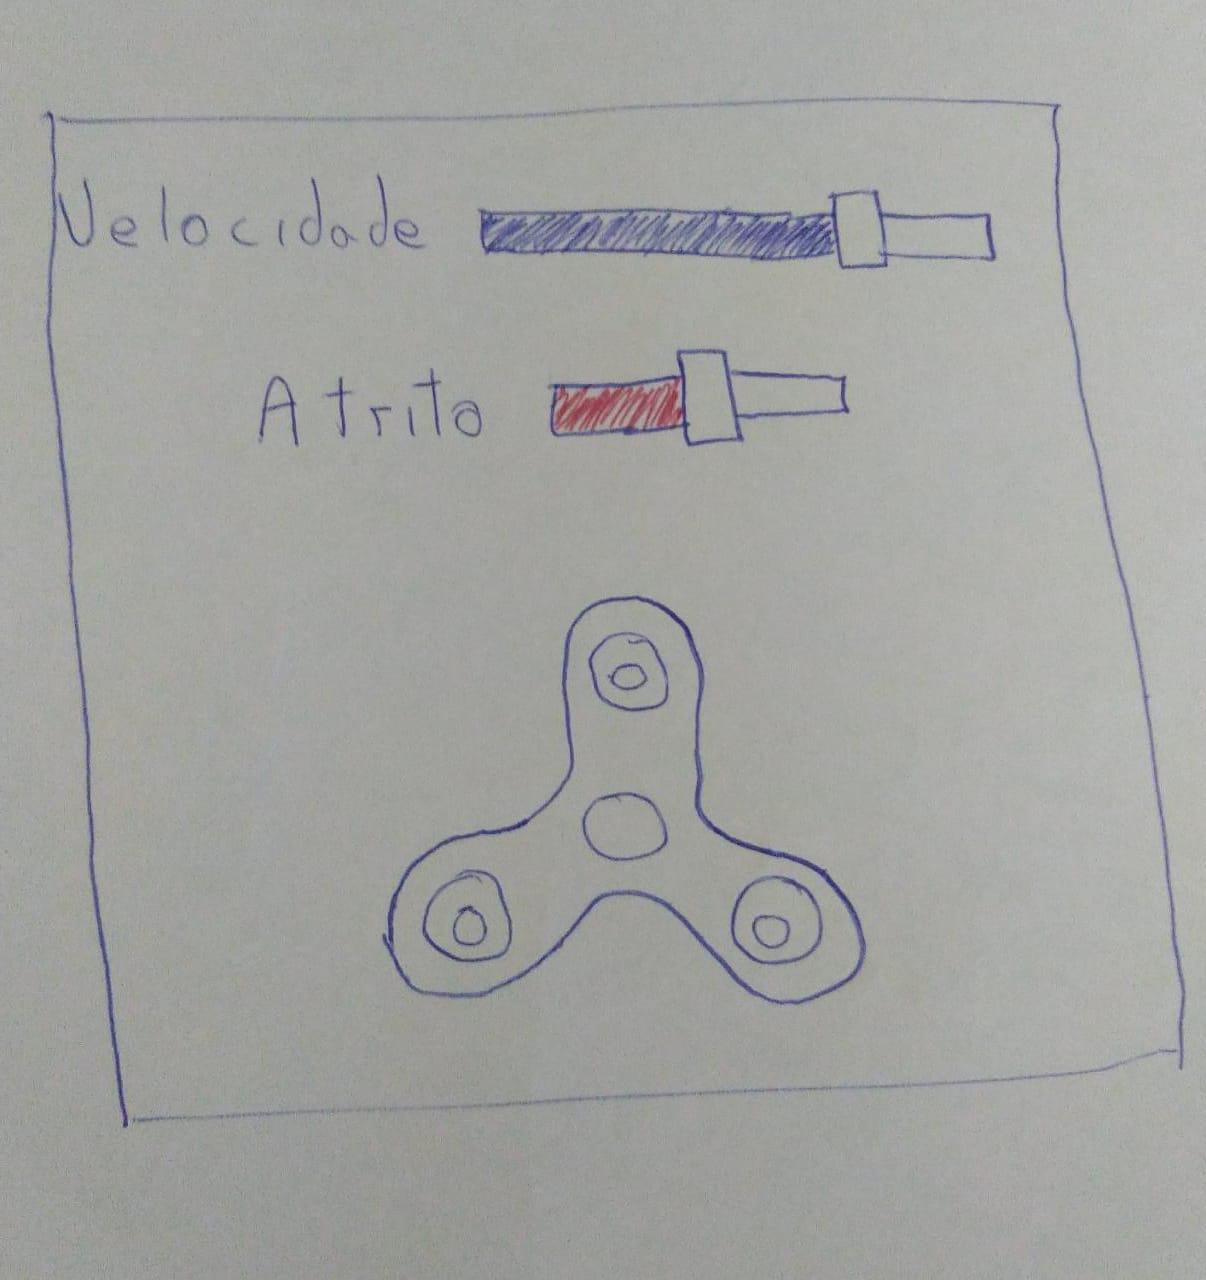Image: (384, 594, 867, 1009)
Label: (54, 173, 427, 252), (256, 365, 482, 448)
Screen: (44, 99, 1187, 1129)
Slider: (481, 188, 996, 271), (550, 348, 850, 449)
